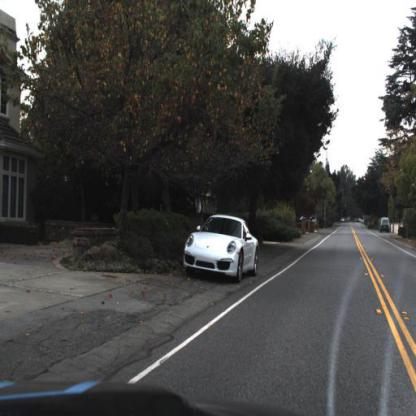car: (182, 211, 264, 286), (379, 214, 394, 237)
